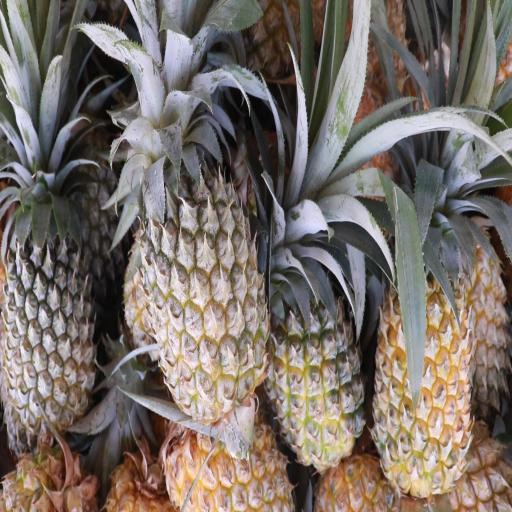------------------------------: (134, 102, 276, 442), (261, 244, 366, 477)
Pineapple - v8 v1: (369, 222, 476, 510)
